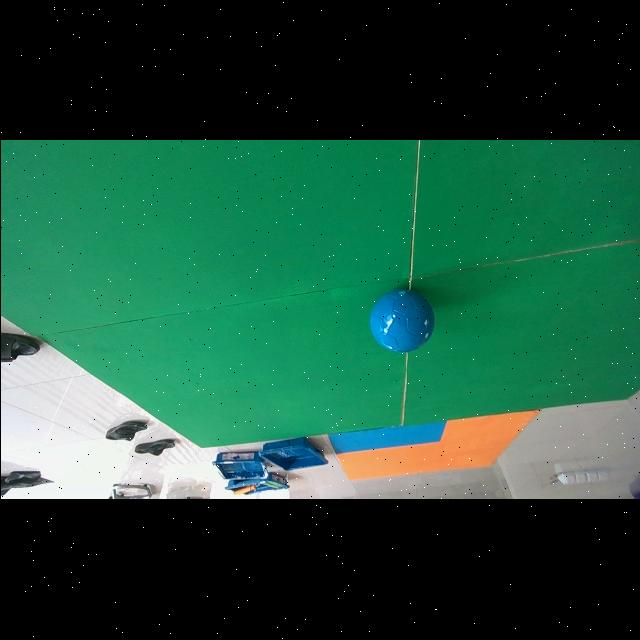B: (368, 289, 435, 354)
